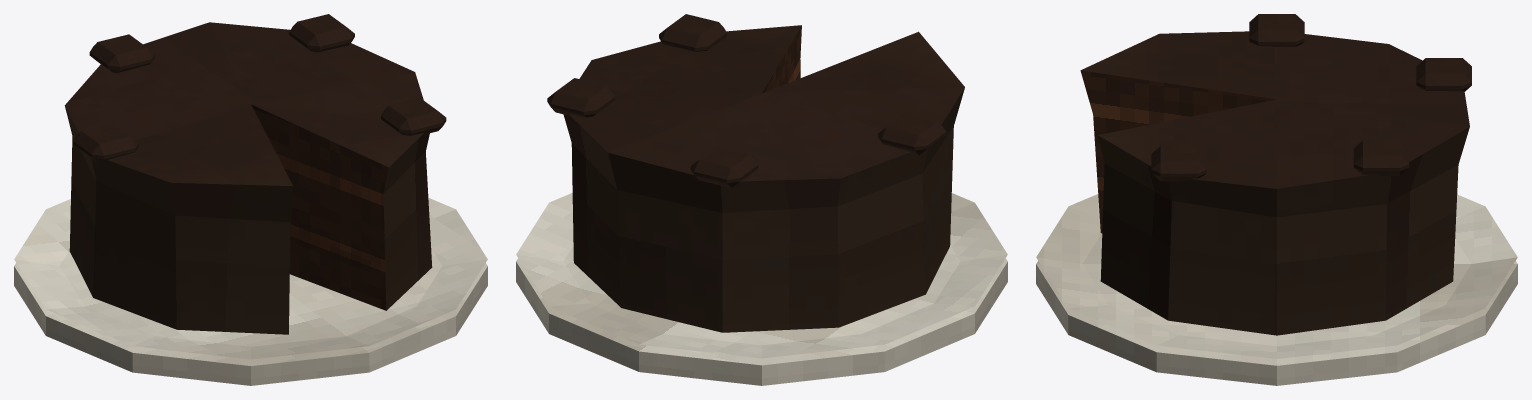
The model's file is BirthdayCake.glb.
3 views of the same model, side by side, from view 1: azimuth 30°, elevation 25°; view 2: azimuth 150°, elevation 25°; view 3: azimuth 270°, elevation 25° (orthographic). The views are drawn at different scales.
Parts seen in each view (by area): view 1: Cake, Plate; view 2: Cake, Plate; view 3: Cake, Plate.
Boxes of the visible parts, left/top/right/bottom form: Cake: left=64, top=14, right=446, bottom=334; Plate: left=14, top=198, right=487, bottom=385; Cake: left=547, top=14, right=964, bottom=332; Plate: left=516, top=193, right=1007, bottom=385; Cake: left=1080, top=14, right=1471, bottom=335; Plate: left=1036, top=194, right=1517, bottom=385.
Bounding box in the file's own units: 0.26 × 0.1173 × 0.26.
1 material, 1 textured.
